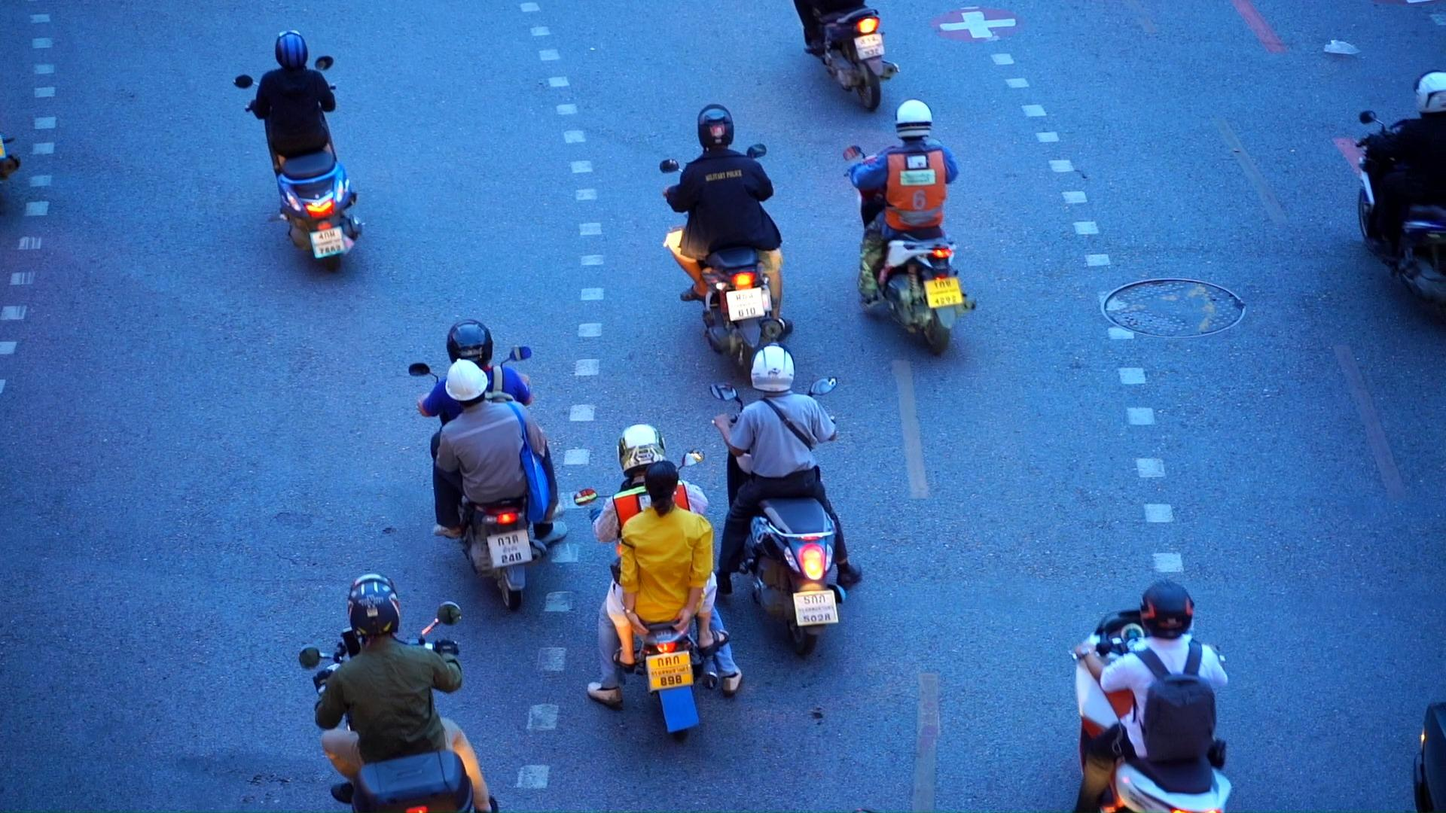driver: (573, 423, 745, 743), (708, 340, 861, 657), (301, 573, 501, 813), (407, 320, 571, 612), (1067, 579, 1233, 813), (660, 103, 793, 381), (844, 99, 977, 359), (234, 29, 366, 272), (1355, 70, 1446, 331), (794, 0, 901, 111)
helmet: (347, 574, 400, 646), (1140, 580, 1195, 640), (617, 423, 666, 477), (749, 341, 796, 394), (445, 358, 489, 410), (447, 320, 493, 369), (697, 103, 734, 153), (895, 99, 933, 141), (1413, 69, 1446, 114), (275, 29, 308, 70)
no-helmet: (644, 460, 679, 518)
